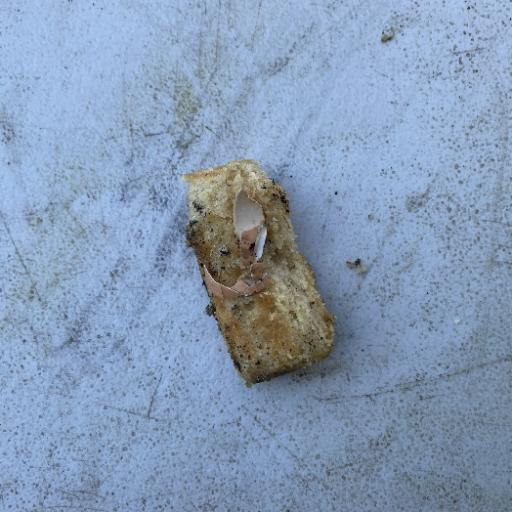Waste: (181, 157, 337, 387)
